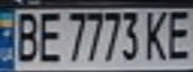3: (121, 8, 142, 61)
7: (84, 8, 106, 62), (63, 8, 84, 63), (103, 8, 124, 62)
B: (9, 8, 42, 64)
E: (160, 7, 193, 61), (33, 8, 63, 63)
K: (139, 8, 172, 62)
